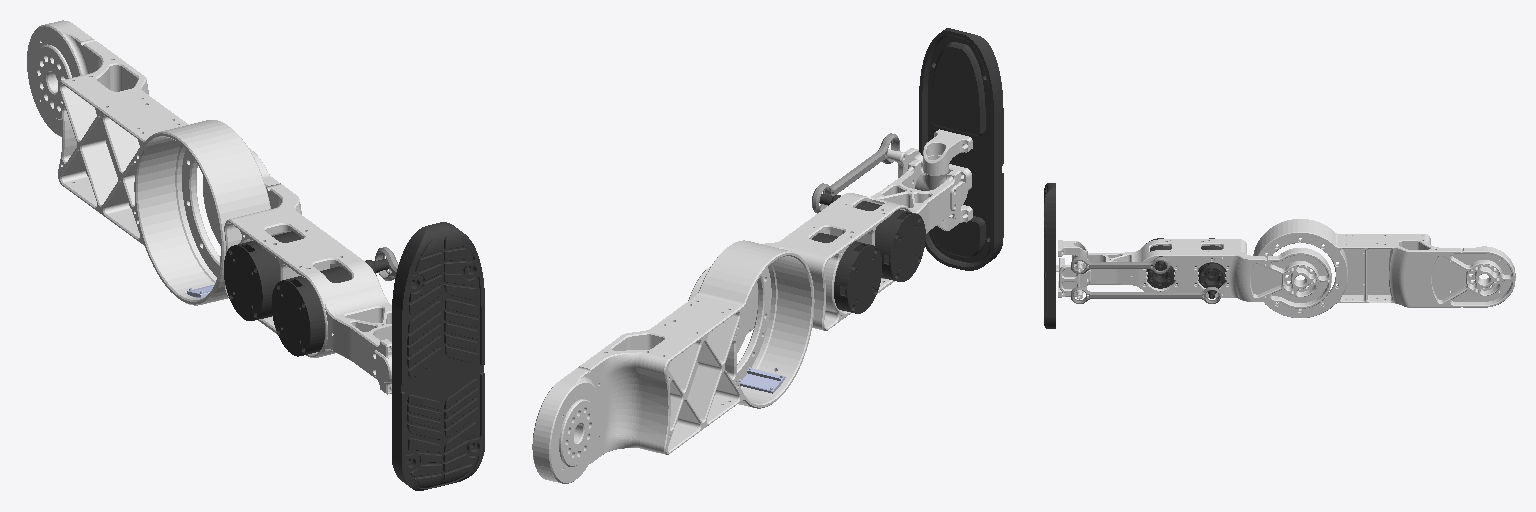
URDF robot description (left_leg):
<!--URDF generated by ONSHAPE BY PTC INC, 1.222-->
<robot name="left_leg">
    <link name="ankle_output_rotor">
        <inertial>
            <mass value="8.40688e-06" />
            <origin xyz="-9.67116e-05 -0.0163581 0.0065907" rpy="0 -0 0" />
            <inertia ixx="1.41838e-09" ixy="2.32387e-12" ixz="-6.50814e-13" iyy="9.10836e-10" iyz="1.94519e-10" izz="1.88528e-09" />
        </inertial>
        <visual>
            <origin xyz="0 -0.0135 0" rpy="0 -0 0" />
            <geometry>
                <mesh filename="package://rpo_description/models/left_leg/meshes/Ankle_Output_Rotor.stl" scale="1 1 1" />
            </geometry>
            <material name="0.301961_0.301961_0.301961_0.000000_0.000000">
                <color rgba="0.301961 0.301961 0.301961 1" />
            </material>
        </visual>
    </link>
    <link name="ankle_output_rotor_1">
        <inertial>
            <mass value="8.40688e-06" />
            <origin xyz="-9.67116e-05 0.0171419 0.000590696" rpy="0 -0 0" />
            <inertia ixx="1.41838e-09" ixy="2.32387e-12" ixz="-6.50814e-13" iyy="9.10836e-10" iyz="1.94519e-10" izz="1.88528e-09" />
        </inertial>
        <visual>
            <origin xyz="-1.11022e-16 0.02 -0.006" rpy="0 -0 0" />
            <geometry>
                <mesh filename="package://rpo_description/models/left_leg/meshes/Ankle_Output_Rotor.stl" scale="1 1 1" />
            </geometry>
            <material name="0.301961_0.301961_0.301961_0.000000_0.000000">
                <color rgba="0.301961 0.301961 0.301961 1" />
            </material>
        </visual>
    </link>
    <link name="ankle_roll_connector">
        <inertial>
            <mass value="0.0244676" />
            <origin xyz="0.0164117 -0.0135 -0.00205967" rpy="0 -0 0" />
            <inertia ixx="1.96726e-06" ixy="-2.15704e-13" ixz="6.97914e-07" iyy="3.58959e-06" iyz="-1.66756e-13" izz="4.22144e-06" />
        </inertial>
        <visual>
            <origin xyz="0.03 -0.0135 -0.011" rpy="0 -0 0" />
            <geometry>
                <mesh filename="package://rpo_description/models/left_leg/meshes/Ankle_Roll_Connector.stl" scale="1 1 1" />
            </geometry>
            <material name="0.901961_0.901961_0.901961_0.000000_0.000000">
                <color rgba="0.901961 0.901961 0.901961 1" />
            </material>
        </visual>
    </link>
    <link name="ankle_roll_connector_1">
        <inertial>
            <mass value="0.0244676" />
            <origin xyz="-0.0135883 1.17113e-10 0.00894033" rpy="0 -0 0" />
            <inertia ixx="1.96726e-06" ixy="-2.15704e-13" ixz="6.97914e-07" iyy="3.58959e-06" iyz="-1.66756e-13" izz="4.22144e-06" />
        </inertial>
        <visual>
            <origin xyz="0 0 0" rpy="0 -0 0" />
            <geometry>
                <mesh filename="package://rpo_description/models/left_leg/meshes/Ankle_Roll_Connector.stl" scale="1 1 1" />
            </geometry>
            <material name="0.901961_0.901961_0.901961_0.000000_0.000000">
                <color rgba="0.901961 0.901961 0.901961 1" />
            </material>
        </visual>
    </link>
    <link name="calf_bearing_lock">
        <inertial>
            <mass value="0.00539699" />
            <origin xyz="-0.0065 0.00104518 0.0115429" rpy="0 -0 0" />
            <inertia ixx="2.2032e-07" ixy="-9.30297e-14" ixz="-3.46566e-14" iyy="4.8131e-07" iyz="-3.24215e-08" izz="3.21263e-07" />
        </inertial>
        <visual>
            <origin xyz="-0.0065 0.002575 0.011" rpy="0 -0 0" />
            <geometry>
                <mesh filename="package://rpo_description/models/left_leg/meshes/Calf_Bearing_Lock.stl" scale="1 1 1" />
            </geometry>
            <material name="0.901961_0.901961_0.901961_0.000000_0.000000">
                <color rgba="0.901961 0.901961 0.901961 1" />
            </material>
        </visual>
    </link>
    <link name="calf_bearing_lock_1">
        <inertial>
            <mass value="0.00539699" />
            <origin xyz="0.0065 0.00104518 0.0115429" rpy="0 -0 0" />
            <inertia ixx="2.2032e-07" ixy="-9.30297e-14" ixz="-3.46566e-14" iyy="4.8131e-07" iyz="-3.24215e-08" izz="3.21263e-07" />
        </inertial>
        <visual>
            <origin xyz="0.0065 0.002575 0.011" rpy="0 -0 0" />
            <geometry>
                <mesh filename="package://rpo_description/models/left_leg/meshes/Calf_Bearing_Lock.stl" scale="1 1 1" />
            </geometry>
            <material name="0.901961_0.901961_0.901961_0.000000_0.000000">
                <color rgba="0.901961 0.901961 0.901961 1" />
            </material>
        </visual>
    </link>
    <link name="connecting_rod_long">
        <inertial>
            <mass value="0.0849684" />
            <origin xyz="6.245e-17 -0.09 0.0030355" rpy="0 -0 0" />
            <inertia ixx="0.000286136" ixy="-1.9438e-14" ixz="0" iyy="1.77829e-06" iyz="0" izz="0.000287328" />
        </inertial>
        <visual>
            <origin xyz="-0.04 0.028 0.008" rpy="0 -0 0" />
            <geometry>
                <mesh filename="package://rpo_description/models/left_leg/meshes/Connecting_Rod_Long.stl" scale="1 1 1" />
            </geometry>
            <material name="0.647059_0.647059_0.647059_0.000000_0.000000">
                <color rgba="0.647059 0.647059 0.647059 1" />
            </material>
        </visual>
    </link>
    <link name="connecting_rod_short">
        <inertial>
            <mass value="0.0551309" />
            <origin xyz="0.055 3.46945e-18 -0.00244528" rpy="0 -0 0" />
            <inertia ixx="1.50852e-06" ixy="-6.27761e-13" ixz="0" iyy="7.99142e-05" iyz="0" izz="8.1044e-05" />
        </inertial>
        <visual>
            <origin xyz="0.11 0.02 0.0025" rpy="0 -0 0" />
            <geometry>
                <mesh filename="package://rpo_description/models/left_leg/meshes/Connecting_Rod_Short.stl" scale="1 1 1" />
            </geometry>
            <material name="0.647059_0.647059_0.647059_0.000000_0.000000">
                <color rgba="0.647059 0.647059 0.647059 1" />
            </material>
        </visual>
    </link>
    <link name="cross_bearing">
        <inertial>
            <mass value="0.106467" />
            <origin xyz="0.02 1.59956e-08 -1.73915e-20" rpy="0 -0 0" />
            <inertia ixx="1.09387e-05" ixy="0" ixz="-3.96261e-12" iyy="1.09387e-05" iyz="2.74815e-12" izz="1.83474e-05" />
        </inertial>
        <visual>
            <origin xyz="0.02 0 0" rpy="0 -0 0" />
            <geometry>
                <mesh filename="package://rpo_description/models/left_leg/meshes/Cross_Bearing.stl" scale="1 1 1" />
            </geometry>
            <material name="0.647059_0.647059_0.647059_0.000000_0.000000">
                <color rgba="0.647059 0.647059 0.647059 1" />
            </material>
        </visual>
    </link>
    <link name="dm_j10010l_controller_cover">
        <inertial>
            <mass value="0.0654346" />
            <origin xyz="0.000330359 -0.016759 -0.0004492" rpy="0 -0 0" />
            <inertia ixx="3.4306e-05" ixy="-8.34269e-09" ixz="-3.55418e-09" iyy="8.55932e-05" iyz="1.30568e-08" izz="5.25956e-05" />
        </inertial>
        <visual>
            <origin xyz="0 0 0" rpy="0 -0 0" />
            <geometry>
                <mesh filename="package://rpo_description/models/left_leg/meshes/DM_J10010L_Controller_Cover.stl" scale="1 1 1" />
            </geometry>
            <material name="0.301961_0.301961_0.301961_0.000000_0.000000">
                <color rgba="0.301961 0.301961 0.301961 1" />
            </material>
        </visual>
    </link>
    <link name="dm_j10010l_rotor__1_">
        <inertial>
            <mass value="1e-09" />
            <origin xyz="0 0.0659355 0" rpy="0 -0 0" />
            <inertia ixx="4e-14" ixy="0" ixz="0" iyy="4e-14" iyz="0" izz="4e-14" />
        </inertial>
    </link>
    <link name="dm_j10010l_side_cover">
        <inertial>
            <mass value="1.14945e-06" />
            <origin xyz="-0.0562683 -0.0443987 0.015077" rpy="0 -0 0" />
            <inertia ixx="1.73548e-10" ixy="-2.40819e-13" ixz="-1.52799e-11" iyy="6.36914e-11" iyz="6.4655e-14" izz="1.20616e-10" />
        </inertial>
        <visual>
            <origin xyz="0 0 0" rpy="0 -0 0" />
            <geometry>
                <mesh filename="package://rpo_description/models/left_leg/meshes/DM_J10010L_Side_Cover.stl" scale="1 1 1" />
            </geometry>
            <material name="0.796078_0.823529_0.937255_0.000000_0.000000">
                <color rgba="0.796078 0.823529 0.937255 1" />
            </material>
        </visual>
    </link>
    <link name="dm_j10010l_stator">
        <inertial>
            <mass value="0.898759" />
            <origin xyz="0.000609351 -0.0450242 -7.18945e-06" rpy="0 -0 0" />
            <inertia ixx="0.00108312" ixy="-2.87816e-06" ixz="-3.7651e-06" iyy="0.00191736" iyz="-1.37112e-06" izz="0.00106089" />
        </inertial>
        <visual>
            <origin xyz="0 0 0" rpy="0 -0 0" />
            <geometry>
                <mesh filename="package://rpo_description/models/left_leg/meshes/DM_J10010L_Stator.stl" scale="1 1 1" />
            </geometry>
        </visual>
    </link>
    <link name="dm_j4340_controller_cover">
        <inertial>
            <mass value="0.0142077" />
            <origin xyz="-0.00195101 0.0545971 -3.68604e-07" rpy="0 -0 0" />
            <inertia ixx="2.95073e-06" ixy="-3.07787e-08" ixz="-5.54113e-12" iyy="6.3453e-06" iyz="-5.15569e-12" izz="3.47772e-06" />
        </inertial>
        <visual>
            <origin xyz="0 0 0" rpy="0 -0 0" />
            <geometry>
                <mesh filename="package://rpo_description/models/left_leg/meshes/DM_J4340_Controller_Cover.stl" scale="1 1 1" />
            </geometry>
            <material name="0.301961_0.301961_0.301961_0.000000_0.000000">
                <color rgba="0.301961 0.301961 0.301961 1" />
            </material>
        </visual>
    </link>
    <link name="dm_j4340_controller_cover_1">
        <inertial>
            <mass value="0.0142077" />
            <origin xyz="-0.00195101 0.0545971 -3.68604e-07" rpy="0 -0 0" />
            <inertia ixx="2.95073e-06" ixy="-3.07787e-08" ixz="-5.54113e-12" iyy="6.3453e-06" iyz="-5.15569e-12" izz="3.47772e-06" />
        </inertial>
        <visual>
            <origin xyz="0 0 0" rpy="0 -0 0" />
            <geometry>
                <mesh filename="package://rpo_description/models/left_leg/meshes/DM_J4340_Controller_Cover.stl" scale="1 1 1" />
            </geometry>
            <material name="0.301961_0.301961_0.301961_0.000000_0.000000">
                <color rgba="0.301961 0.301961 0.301961 1" />
            </material>
        </visual>
    </link>
    <link name="dm_j4340_motor">
        <inertial>
            <mass value="0.995728" />
            <origin xyz="-1.22678e-18 0.0254278 -8.25923e-19" rpy="0 -0 0" />
            <inertia ixx="0.000398107" ixy="0" ixz="-8.86886e-08" iyy="0.000402328" iyz="0" izz="0.000398414" />
        </inertial>
        <visual>
            <origin xyz="0 -0.00025 0" rpy="0 -0 0" />
            <geometry>
                <mesh filename="package://rpo_description/models/left_leg/meshes/DM_J4340_Motor.stl" scale="1 1 1" />
            </geometry>
            <material name="0.301961_0.301961_0.301961_0.000000_0.000000">
                <color rgba="0.301961 0.301961 0.301961 1" />
            </material>
        </visual>
    </link>
    <link name="dm_j4340_motor_1">
        <inertial>
            <mass value="0.995728" />
            <origin xyz="-1.22678e-18 0.0254278 -8.25923e-19" rpy="0 -0 0" />
            <inertia ixx="0.000398107" ixy="0" ixz="-8.86886e-08" iyy="0.000402328" iyz="0" izz="0.000398414" />
        </inertial>
        <visual>
            <origin xyz="0 -0.00025 0" rpy="0 -0 0" />
            <geometry>
                <mesh filename="package://rpo_description/models/left_leg/meshes/DM_J4340_Motor.stl" scale="1 1 1" />
            </geometry>
            <material name="0.301961_0.301961_0.301961_0.000000_0.000000">
                <color rgba="0.301961 0.301961 0.301961 1" />
            </material>
        </visual>
    </link>
    <link name="foot">
        <inertial>
            <mass value="0.145168" />
            <origin xyz="0.0160273 -0.0135 0.00191236" rpy="0 -0 0" />
            <inertia ixx="5.63586e-05" ixy="1.01226e-10" ixz="1.23165e-08" iyy="0.000441189" iyz="-1.16112e-10" izz="0.000495552" />
        </inertial>
        <visual>
            <origin xyz="0.051 -0.0135 -0.002" rpy="0 -0 0" />
            <geometry>
                <mesh filename="package://rpo_description/models/left_leg/meshes/Foot.stl" scale="1 1 1" />
            </geometry>
            <material name="0.901961_0.901961_0.901961_0.000000_0.000000">
                <color rgba="0.901961 0.901961 0.901961 1" />
            </material>
        </visual>
    </link>
    <link name="foot_connector">
        <inertial>
            <mass value="1.37638e-05" />
            <origin xyz="0.00500001 0.0314863 0.0100149" rpy="0 -0 0" />
            <inertia ixx="5.1093e-09" ixy="-2.07348e-15" ixz="1.23266e-15" iyy="2.67917e-09" iyz="-1.38853e-09" izz="5.25939e-09" />
        </inertial>
        <visual>
            <origin xyz="-0.015 0.0125 1.29813e-18" rpy="0 -0 0" />
            <geometry>
                <mesh filename="package://rpo_description/models/left_leg/meshes/Foot_Connector.stl" scale="1 1 1" />
            </geometry>
            <material name="0.901961_0.901961_0.901961_0.000000_0.000000">
                <color rgba="0.901961 0.901961 0.901961 1" />
            </material>
        </visual>
    </link>
    <link name="foot_pad">
        <inertial>
            <mass value="0.175914" />
            <origin xyz="-0.027 0.0748405 -0.0027759" rpy="0 -0 0" />
            <inertia ixx="0.00059297" ixy="3.03267e-10" ixz="-1.40779e-11" iyy="6.76655e-05" iyz="-2.0499e-06" izz="0.000654898" />
        </inertial>
        <visual>
            <origin xyz="-2.02485 0.526188 -0.01" rpy="0 -0 0" />
            <geometry>
                <mesh filename="package://rpo_description/models/left_leg/meshes/Foot_Pad.stl" scale="1 1 1" />
            </geometry>
            <material name="0.301961_0.301961_0.301961_0.000000_0.000000">
                <color rgba="0.301961 0.301961 0.301961 1" />
            </material>
        </visual>
    </link>
    <link name="lower_leg">
        <inertial>
            <mass value="0.652933" />
            <origin xyz="2.80264e-07 -0.120954 -0.00700196" rpy="0 -0 0" />
            <inertia ixx="0.00564015" ixy="2.11402e-08" ixz="2.48546e-09" iyy="0.000484705" iyz="-0.000583008" izz="0.00570798" />
        </inertial>
        <visual>
            <origin xyz="4.16334e-17 5.55112e-16 0" rpy="0 -0 0" />
            <geometry>
                <mesh filename="package://rpo_description/models/left_leg/meshes/Lower_Leg.stl" scale="1 1 1" />
            </geometry>
            <material name="0.901961_0.901961_0.901961_0.000000_0.000000">
                <color rgba="0.901961 0.901961 0.901961 1" />
            </material>
        </visual>
    </link>
    <link name="mate_connector_1">
        <inertial>
            <mass value="1e-09" />
            <origin xyz="0 0 0" rpy="0 -0 0" />
            <inertia ixx="4e-14" ixy="0" ixz="0" iyy="4e-14" iyz="0" izz="4e-14" />
        </inertial>
    </link>
    <link name="root" />
    <link name="upper_leg">
        <inertial>
            <mass value="0.862647" />
            <origin xyz="-5.96863e-06 -0.134451 -0.00677772" rpy="0 -0 0" />
            <inertia ixx="0.00774349" ixy="-7.57053e-07" ixz="-7.59938e-08" iyy="0.00111424" iyz="-0.00055949" izz="0.00842932" />
        </inertial>
        <visual>
            <origin xyz="-1.04228e-18 -1.3045e-14 -0.001" rpy="0 -0 0" />
            <geometry>
                <mesh filename="package://rpo_description/models/left_leg/meshes/Upper_Leg.stl" scale="1 1 1" />
            </geometry>
            <material name="0.901961_0.901961_0.901961_0.000000_0.000000">
                <color rgba="0.901961 0.901961 0.901961 1" />
            </material>
        </visual>
    </link>
    <joint name="fastened_1" type="fixed">
        <origin xyz="2.1684e-19 -1.56503e-19 -1.04228e-18" rpy="0 1.5708 -0" />
        <axis xyz="0 0 1" />
        <parent link="root" />
        <child link="upper_leg" />
    </joint>
    <joint name="fastened_10" type="fixed">
        <origin xyz="-0.025 -0.19 0.0055" rpy="-1.27189e-27 -4.39928e-27 -1.5708" />
        <axis xyz="0 0 -1" />
        <parent link="lower_leg" />
        <child link="ankle_output_rotor_1" />
    </joint>
    <joint name="fastened_11" type="fixed">
        <origin xyz="-1.11022e-16 -3.46945e-18 0.02075" rpy="0 -6.16298e-33 0" />
        <axis xyz="0 0 -1" />
        <parent link="ankle_output_rotor_1" />
        <child link="connecting_rod_short" />
    </joint>
    <joint name="fastened_12" type="fixed">
        <origin xyz="9.4369e-16 -0.00025 0.0135" rpy="1.5708 1.41748e-31 -1.11022e-16" />
        <axis xyz="-0 -0 -1" />
        <parent link="dm_j4340_motor" />
        <child link="ankle_output_rotor" />
    </joint>
    <joint name="fastened_13" type="fixed">
        <origin xyz="0 -0.0335 0.02675" rpy="-3.14159 3.01986e-31 1.5708" />
        <axis xyz="0 0 1" />
        <parent link="ankle_output_rotor" />
        <child link="connecting_rod_long" />
    </joint>
    <joint name="fastened_14" type="fixed">
        <origin xyz="0.036 -0.026 -0.002" rpy="3.14159 -1.2326e-32 3.14159" />
        <axis xyz="0 0 -1" />
        <parent link="foot" />
        <child link="foot_connector" />
    </joint>
    <joint name="fastened_2" type="fixed">
        <origin xyz="-2.77556e-17 -0.25 0.0035" rpy="-1.5708 -0 3.14159" />
        <axis xyz="0 -1 0" />
        <parent link="upper_leg" />
        <child link="dm_j10010l_rotor__1_" />
    </joint>
    <joint name="fastened_3" type="fixed">
        <origin xyz="3.47865e-15 -0.19 -0.0005" rpy="-1.5708 -0 1.5708" />
        <axis xyz="0 -1 0" />
        <parent link="lower_leg" />
        <child link="dm_j4340_motor_1" />
    </joint>
    <joint name="fastened_4" type="fixed">
        <origin xyz="3.39312e-15 -0.12 -0.0005" rpy="-1.5708 -0 1.5708" />
        <axis xyz="0 -1 0" />
        <parent link="lower_leg" />
        <child link="dm_j4340_motor" />
    </joint>
    <joint name="fastened_5" type="fixed">
        <origin xyz="-0.0065 -0.289 0.002575" rpy="-1.5708 -1.84889e-32 -3.14159" />
        <axis xyz="0 1 0" />
        <parent link="lower_leg" />
        <child link="calf_bearing_lock" />
    </joint>
    <joint name="fastened_6" type="fixed">
        <origin xyz="-0.0065 -0.289 -0.041275" rpy="1.5708 3.46945e-17 8.32002e-32" />
        <axis xyz="0 1 0" />
        <parent link="lower_leg" />
        <child link="calf_bearing_lock_1" />
    </joint>
    <joint name="fastened_7" type="fixed">
        <origin xyz="0.086 -0.0405 0.008" rpy="-3.14159 -1.59027e-17 -1.5708" />
        <axis xyz="0 0 1" />
        <parent link="foot" />
        <child link="foot_pad" />
    </joint>
    <joint name="fastened_8" type="fixed">
        <origin xyz="0.062 -6.49827e-15 -2.22045e-16" rpy="0 1.5708 -2.1042e-16" />
        <axis xyz="-1 0 0" />
        <parent link="foot" />
        <child link="ankle_roll_connector" />
    </joint>
    <joint name="fastened_9" type="fixed">
        <origin xyz="-0.03 -0.0135 0.011" rpy="0 1.5708 -3.14159" />
        <axis xyz="-0 -0 -1" />
        <parent link="ankle_roll_connector_1" />
        <child link="foot" />
    </joint>
    <joint name="group_1_fastened_joint" type="fixed">
        <origin xyz="5.55112e-17 -0.00025 3.9443e-31" rpy="0 -0 0" />
        <axis xyz="0 0 1" />
        <parent link="dm_j4340_motor_1" />
        <child link="dm_j4340_controller_cover_1" />
    </joint>
    <joint name="group_1_fastened_joint_1" type="fixed">
        <origin xyz="0 0.0659355 0" rpy="0 -0 0" />
        <axis xyz="0 0 1" />
        <parent link="dm_j10010l_rotor__1_" />
        <child link="dm_j10010l_stator" />
    </joint>
    <joint name="group_1_fastened_joint_2" type="fixed">
        <origin xyz="0 0.0659355 0" rpy="0 -0 0" />
        <axis xyz="-0 -0 -1" />
        <parent link="dm_j10010l_rotor__1_" />
        <child link="dm_j10010l_side_cover" />
    </joint>
    <joint name="group_1_fastened_joint_3" type="fixed">
        <origin xyz="0 0 0" rpy="0 -0 0" />
        <axis xyz="-0 -0 -1" />
        <parent link="dm_j10010l_side_cover" />
        <child link="dm_j10010l_controller_cover" />
    </joint>
    <joint name="group_1_fastened_joint_4" type="fixed">
        <origin xyz="5.55112e-17 -0.00025 0" rpy="0 -0 0" />
        <axis xyz="0 0 1" />
        <parent link="dm_j4340_motor" />
        <child link="dm_j4340_controller_cover" />
    </joint>
    <joint name="left_ankle_pitch_joint" type="revolute">
        <origin xyz="0.0065 0.001925 0.011" rpy="-1.44214e-30 -1.04254e-16 1.5708" />
        <axis xyz="1 0 0" />
        <parent link="calf_bearing_lock_1" />
        <child link="cross_bearing" />
        <limit effort="1" velocity="1" lower="-0.6" upper="0.6" />
    </joint>
    <joint name="left_ankle_roll_joint" type="revolute">
        <origin xyz="0.02 0.02 -1.11022e-16" rpy="0 1.5708 1.5708" />
        <axis xyz="0 0 1" />
        <parent link="cross_bearing" />
        <child link="ankle_roll_connector_1" />
        <limit effort="1" velocity="1" lower="-0.5" upper="0.5" />
    </joint>
    <joint name="left_knee_joint" type="revolute">
        <origin xyz="-1.28355e-17 -0.0654355 0" rpy="-1.5708 0 3.14159" />
        <axis xyz="0 0 1" />
        <parent link="dm_j10010l_stator" />
        <child link="lower_leg" />
        <limit effort="1" velocity="1" lower="-0.2" upper="2.5" />
    </joint>
    <joint name="mate_connector_1" type="fixed">
        <origin xyz="0 0 0.0185" rpy="0 -0 0" />
        <axis xyz="0 0 1" />
        <parent link="lower_leg" />
        <child link="mate_connector_1" />
    </joint>
</robot>

--- Facts derived from the render (not from the file) ---
3 views of the same robot in one strip: view 1: azimuth 30°, elevation 25°; view 2: azimuth 150°, elevation 25°; view 3: azimuth 270°, elevation 25° (orthographic).
Model left_leg with 24 links and 23 joints (3 revolute, 20 fixed), rooted at root, posed every joint at zero.
Visible links, largest first — view 1: upper_leg, foot_pad, lower_leg, dm_j4340_controller_cover_1, dm_j4340_controller_cover, dm_j4340_motor_1, dm_j4340_motor, calf_bearing_lock_1; view 2: upper_leg, foot_pad, lower_leg, dm_j4340_controller_cover_1, dm_j4340_controller_cover, ankle_roll_connector_1, connecting_rod_short, dm_j4340_motor_1, foot_connector, dm_j10010l_side_cover, dm_j4340_motor; view 3: upper_leg, lower_leg, foot_pad, connecting_rod_long, connecting_rod_short, foot_connector.
Boxes of the visible links, left/top/right/bottom form: upper_leg: left=27, top=20, right=270, bottom=305; foot_pad: left=392, top=222, right=484, bottom=490; lower_leg: left=203, top=148, right=391, bottom=392; dm_j4340_controller_cover_1: left=272, top=278, right=317, bottom=356; dm_j4340_controller_cover: left=224, top=243, right=269, bottom=320; dm_j4340_motor_1: left=290, top=266, right=351, bottom=353; dm_j4340_motor: left=242, top=231, right=301, bottom=318; calf_bearing_lock_1: left=373, top=343, right=391, bottom=394; upper_leg: left=532, top=240, right=814, bottom=483; foot_pad: left=919, top=28, right=1003, bottom=270; lower_leg: left=688, top=160, right=959, bottom=352; dm_j4340_controller_cover_1: left=884, top=212, right=925, bottom=281; dm_j4340_controller_cover: left=840, top=244, right=881, bottom=313; ankle_roll_connector_1: left=923, top=129, right=972, bottom=175; connecting_rod_short: left=812, top=133, right=899, bottom=213; dm_j4340_motor_1: left=855, top=201, right=908, bottom=279; foot_connector: left=887, top=148, right=971, bottom=190; dm_j10010l_side_cover: left=739, top=367, right=785, bottom=393; dm_j4340_motor: left=812, top=233, right=864, bottom=311; upper_leg: left=1253, top=219, right=1515, bottom=317; lower_leg: left=1080, top=239, right=1331, bottom=308; foot_pad: left=1044, top=183, right=1055, bottom=328; connecting_rod_long: left=1071, top=287, right=1220, bottom=303; connecting_rod_short: left=1071, top=257, right=1169, bottom=273; foot_connector: left=1056, top=258, right=1082, bottom=299.
Bounding box of the posed robot: 0.0853 × 0.6404 × 0.21 m (x, y, z).
Meshes: 16 distinct files referenced, 18 mesh visuals loaded (13 binary STL); not drawn: 3 (reference not matched to a file when rendering).
